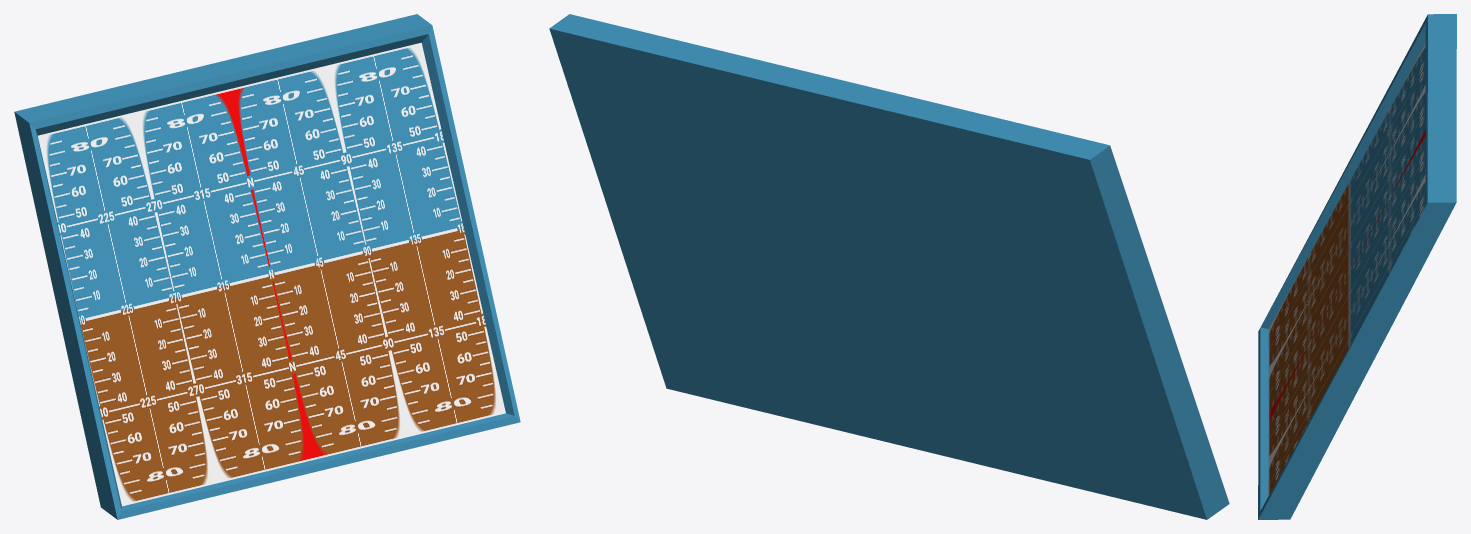
The model's file is radar.obj.
The picture shows the model from 3 angles, left to right: view 1: azimuth 30°, elevation 25°; view 2: azimuth 150°, elevation 25°; view 3: azimuth 270°, elevation 25°; orthographic projection. The views are drawn at different scales.
Parts seen in each view (by area): view 1: Cube.018_Cube.015; view 2: Cube.018_Cube.015; view 3: Cube.018_Cube.015.
Part boxes in pixels (x1,y1,x2,y2): Cube.018_Cube.015: (14,14,520,519); Cube.018_Cube.015: (549,14,1229,519); Cube.018_Cube.015: (1258,14,1456,519).
Size of the model in its own units: 0.0542 by 0.0427 by 0.0242.
1 material, 1 textured.
